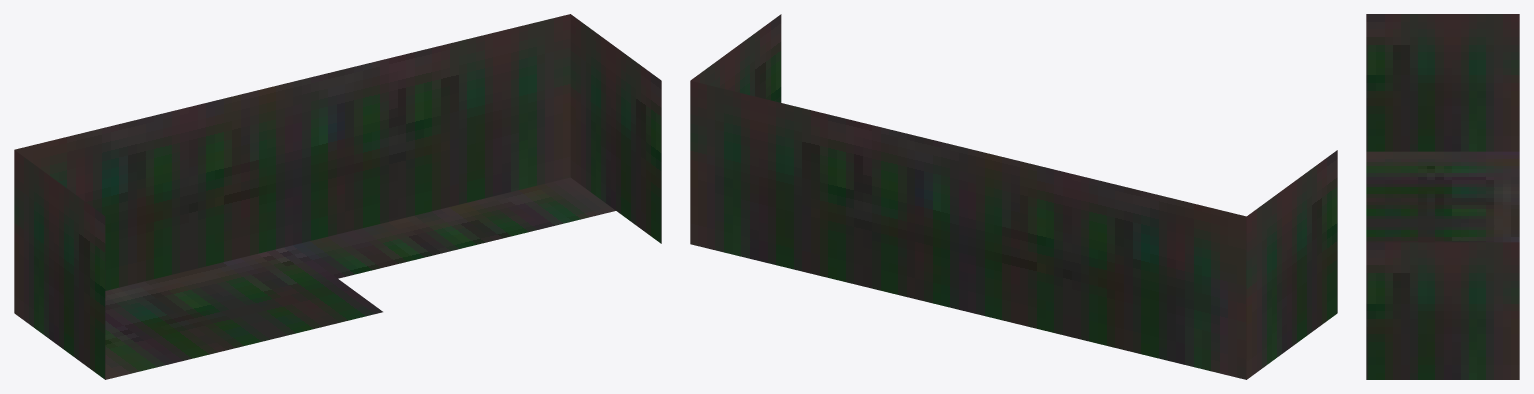
Rendered from kenney-retro-urban-balcony-ladder-top.glb.
3 renders of one model, left to right at view 1: azimuth 30°, elevation 25°; view 2: azimuth 150°, elevation 25°; view 3: azimuth 270°, elevation 25°, orthographic. The views are drawn at different scales.
Parts seen in each view (by area): view 1: balcony-ladder-top; view 2: balcony-ladder-top; view 3: balcony-ladder-top.
Part boxes in pixels (x1,y1,x2,y2): balcony-ladder-top: (14, 14, 661, 379); balcony-ladder-top: (690, 14, 1337, 379); balcony-ladder-top: (1366, 14, 1519, 379).
Bounding box in the file's own units: 1 × 0.2808 × 0.2837.
Materials: 1 (1 with a texture image).
